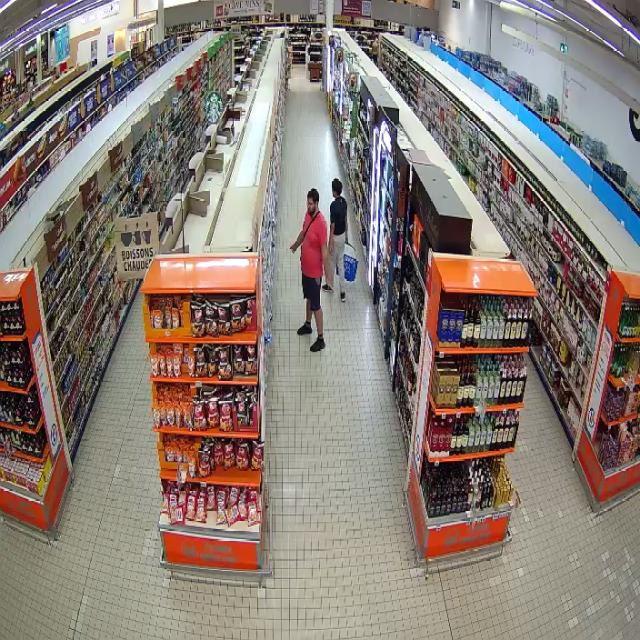hands: (290, 236, 300, 252), (324, 271, 333, 288), (329, 245, 333, 256), (345, 235, 348, 243)
person: (290, 188, 333, 351), (322, 178, 346, 301)
